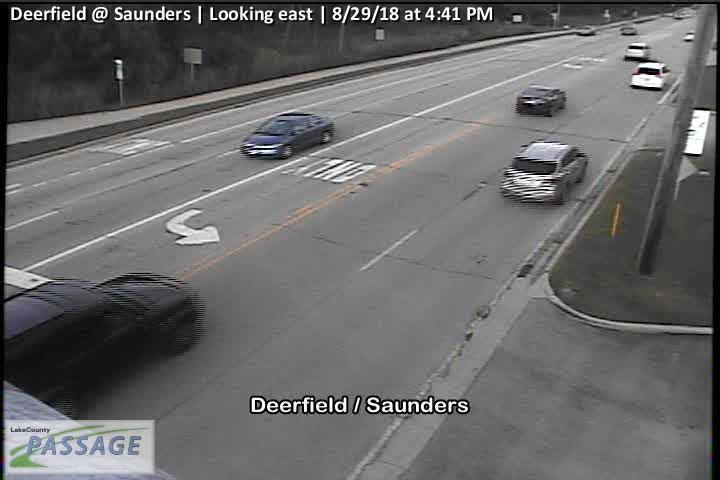SUV: (1, 268, 198, 425)
Sedan: (499, 136, 589, 203), (241, 110, 336, 159), (516, 82, 566, 117), (623, 41, 653, 60)
Truck: (630, 58, 675, 92)
